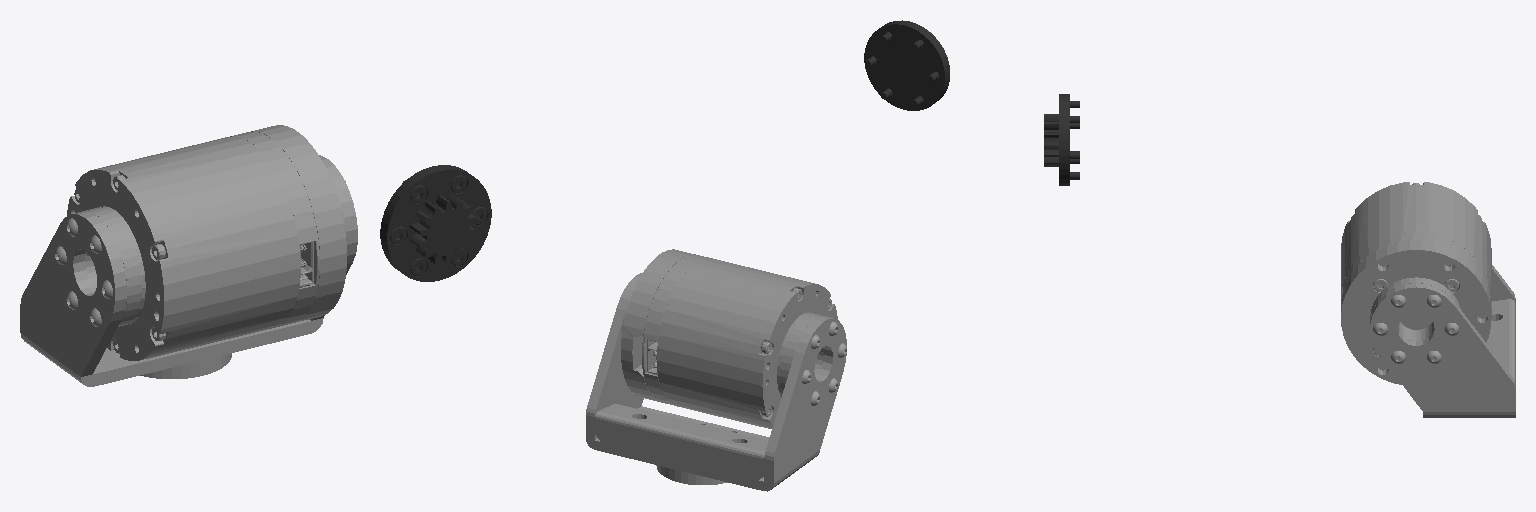
robot.urdf — urdfTRLC:
<?xml version="1.0" encoding="utf-8"?>
<!-- This URDF was automatically created by SolidWorks to URDF Exporter! Originally created by [author] ([email redacted]) 
     Commit Version: 1.6.0-4-g7f85cfe  Build Version: 1.6.7995.38578
     For more information, please see http://wiki.ros.org/sw_urdf_exporter -->
<robot
  name="urdfTRLC">
  <link
    name="base_link">
    <inertial>
      <origin
        xyz="0.00035693 -2.0341E-05 0.028839"
        rpy="0 0 0" />
      <mass
        value="0.15691" />
      <inertia
        ixx="6.8514E-05"
        ixy="1.8448E-08"
        ixz="5.5976E-08"
        iyy="9.3881E-05"
        iyz="-2.605E-09"
        izz="9.3695E-05" />
    </inertial>
    <visual>
      <origin
        xyz="0 0 0"
        rpy="0 0 0" />
      <geometry>
        <mesh
          filename="package://urdfTRLC/meshes/base_link.STL" />
      </geometry>
      <material
        name="">
        <color
          rgba="0.62745 0.62745 0.62745 1" />
      </material>
    </visual>
    <collision>
      <origin
        xyz="0 0 0"
        rpy="0 0 0" />
      <geometry>
        <mesh
          filename="package://urdfTRLC/meshes/base_link.STL" />
      </geometry>
    </collision>
  </link>
  <link
    name="link1">
    <inertial>
      <origin
        xyz="-0.0018187 -0.015939 0.03281"
        rpy="0 0 0" />
      <mass
        value="0.18378" />
      <inertia
        ixx="6.9188E-05"
        ixy="-4.9168E-08"
        ixz="-1.4916E-08"
        iyy="8.4239E-05"
        iyz="2.7997E-06"
        izz="8.2324E-05" />
    </inertial>
    <visual>
      <origin
        xyz="0 0 0"
        rpy="0 0 0" />
      <geometry>
        <mesh
          filename="package://urdfTRLC/meshes/link1.STL" />
      </geometry>
      <material
        name="">
        <color
          rgba="0.62745 0.62745 0.62745 1" />
      </material>
    </visual>
    <collision>
      <origin
        xyz="0 0 0"
        rpy="0 0 0" />
      <geometry>
        <mesh
          filename="package://urdfTRLC/meshes/link1.STL" />
      </geometry>
    </collision>
  </link>
  <joint
    name="joint1"
    type="revolute">
    <origin
      xyz="0.00030433 -5.982E-05 0.0615"
      rpy="0 0 0" />
    <parent
      link="base_link" />
    <child
      link="link1" />
    <axis
      xyz="0 0 -1" />
    <limit
      lower="-3.14"
      upper="3.14"
      effort="100"
      velocity="1" />
  </joint>
  <link
    name="link2">
    <inertial>
      <origin
        xyz="-0.00072847 0.12948 -0.0013629"
        rpy="0 0 0" />
      <mass
        value="0.52199" />
      <inertia
        ixx="0.0017112"
        ixy="-3.6153E-05"
        ixz="2.9847E-08"
        iyy="0.00020312"
        iyz="-7.6814E-10"
        izz="0.0017633" />
    </inertial>
    <visual>
      <origin
        xyz="0 0 0"
        rpy="0 0 0" />
      <geometry>
        <mesh
          filename="package://urdfTRLC/meshes/link2.STL" />
      </geometry>
      <material
        name="">
        <color
          rgba="0.45098 0.45098 0.45098 1" />
      </material>
    </visual>
    <collision>
      <origin
        xyz="0 0 0"
        rpy="0 0 0" />
      <geometry>
        <mesh
          filename="package://urdfTRLC/meshes/link2.STL" />
      </geometry>
    </collision>
  </link>
  <joint
    name="joint2"
    type="revolute">
    <origin
      xyz="2.5E-05 -0.01996 0.0385"
      rpy="0 1.5708 0" />
    <parent
      link="link1" />
    <child
      link="link2" />
    <axis
      xyz="0 0 1" />
    <limit
      lower="-3.14"
      upper="3.14"
      effort="100"
      velocity="1" />
  </joint>
  <link
    name="link3">
    <inertial>
      <origin
        xyz="-0.0850583506723794 0.166894775258068 -0.00116994142610369"
        rpy="0 0 0" />
      <mass
        value="0.29810581392227" />
      <inertia
        ixx="0.000342552318746016"
        ixy="0.000245958313961062"
        ixz="-6.46271366436622E-08"
        iyy="0.000326863555207729"
        iyz="5.46612250403886E-09"
        izz="0.000618245496093963" />
    </inertial>
    <visual>
      <origin
        xyz="0 0 0"
        rpy="0 0 0" />
      <geometry>
        <mesh
          filename="package://urdfTRLC/meshes/link3.STL" />
      </geometry>
      <material
        name="">
        <color
          rgba="0.627450980392157 0.627450980392157 0.627450980392157 1" />
      </material>
    </visual>
    <collision>
      <origin
        xyz="0 0 0"
        rpy="0 0 0" />
      <geometry>
        <mesh
          filename="package://urdfTRLC/meshes/link3.STL" />
      </geometry>
    </collision>
  </link>
  <joint
    name="joint3"
    type="revolute">
    <origin
      xyz="0 0.264 0"
      rpy="0 0 2.3562" />
    <parent
      link="link2" />
    <child
      link="link3" />
    <axis
      xyz="0 0 1" />
    <limit
      lower="-3.14"
      upper="3.14"
      effort="100"
      velocity="1" />
  </joint>
  <link
    name="link4">
    <inertial>
      <origin
        xyz="-0.0575561983506121 0.0628584060183637 0.00011644901352072"
        rpy="0 0 0" />
      <mass
        value="0.136559236578681" />
      <inertia
        ixx="5.17616079384948E-05"
        ixy="4.14501836594701E-06"
        ixz="-2.71974389425685E-08"
        iyy="7.19822035382371E-05"
        iyz="-4.18322591215055E-08"
        izz="4.83485185403954E-05" />
    </inertial>
    <visual>
      <origin
        xyz="0 0 0"
        rpy="0 0 0" />
      <geometry>
        <mesh
          filename="package://urdfTRLC/meshes/link4.STL" />
      </geometry>
      <material
        name="">
        <color
          rgba="0.627450980392157 0.627450980392157 0.627450980392157 1" />
      </material>
    </visual>
    <collision>
      <origin
        xyz="0 0 0"
        rpy="0 0 0" />
      <geometry>
        <mesh
          filename="package://urdfTRLC/meshes/link4.STL" />
      </geometry>
    </collision>
  </link>
  <joint
    name="joint4"
    type="revolute">
    <origin
      xyz="-0.13011 0.21496 0"
      rpy="0 0 -0.7854" />
    <parent
      link="link3" />
    <child
      link="link4" />
    <axis
      xyz="0 0 1" />
    <limit
      lower="-3.14"
      upper="3.14"
      effort="100"
      velocity="1" />
  </joint>
  <link
    name="link5">
    <inertial>
      <origin
        xyz="6.02251694338822E-05 0.00433146259484764 0.0436109338536096"
        rpy="0 0 0" />
      <mass
        value="0.136272077910486" />
      <inertia
        ixx="3.80571998229005E-05"
        ixy="4.18321065050544E-08"
        ixz="-2.71960378849877E-08"
        iyy="5.19829979363985E-05"
        iyz="1.05712523783958E-06"
        izz="3.58421705193431E-05" />
    </inertial>
    <visual>
      <origin
        xyz="0 0 0"
        rpy="0 0 0" />
      <geometry>
        <mesh
          filename="package://urdfTRLC/meshes/link5.STL" />
      </geometry>
      <material
        name="">
        <color
          rgba="0.96078431372549 0.96078431372549 0.964705882352941 1" />
      </material>
    </visual>
    <collision>
      <origin
        xyz="0 0 0"
        rpy="0 0 0" />
      <geometry>
        <mesh
          filename="package://urdfTRLC/meshes/link5.STL" />
      </geometry>
    </collision>
  </link>
  <joint
    name="joint5"
    type="revolute">
    <origin
      xyz="-0.062 0.0435 -2.5E-05"
      rpy="1.5708 -1.5708 0" />
    <parent
      link="link4" />
    <child
      link="link5" />
    <axis
      xyz="0 0 -1" />
    <limit
      lower="-3.14"
      upper="3.14"
      effort="100"
      velocity="1" />
  </joint>
  <link
    name="link6">
    <inertial>
      <origin
        xyz="2.76800979526429E-05 0.00742633152124933 0.0838594108097057"
        rpy="0 0 0" />
      <mass
        value="0.295919016276387" />
      <inertia
        ixx="8.44793597241034E-05"
        ixy="4.74443245655807E-08"
        ixz="4.20216174446221E-08"
        iyy="0.000175905409134817"
        iyz="-1.25543193067411E-06"
        izz="0.000200340660418018" />
    </inertial>
    <visual>
      <origin
        xyz="0 0 0"
        rpy="0 0 0" />
      <geometry>
        <mesh
          filename="package://urdfTRLC/meshes/link6.STL" />
      </geometry>
      <material
        name="">
        <color
          rgba="0.247058823529412 0.247058823529412 0.247058823529412 1" />
      </material>
    </visual>
    <collision>
      <origin
        xyz="0 0 0"
        rpy="0 0 0" />
      <geometry>
        <mesh
          filename="package://urdfTRLC/meshes/link6.STL" />
      </geometry>
    </collision>
  </link>
  <joint
    name="joint6"
    type="revolute">
    <origin
      xyz="0 0 0.0435"
      rpy="-1.5708 0 0" />
    <parent
      link="link5" />
    <child
      link="link6" />
    <axis
      xyz="0 0 -1" />
    <limit
      lower="-3.14"
      upper="3.14"
      effort="100"
      velocity="1" />
  </joint>
  <link
    name="link7">
    <inertial>
      <origin
        xyz="1.41513463601717E-16 1.0547118733939E-15 0.0257854549357648"
        rpy="0 0 0" />
      <mass
        value="0.00514900762678686" />
      <inertia
        ixx="3.00529940041033E-07"
        ixy="-1.56787200650138E-15"
        ixz="-2.84344565143764E-21"
        iyy="3.00529940041033E-07"
        iyz="-1.35592032122936E-21"
        izz="5.37858964007326E-07" />
    </inertial>
    <visual>
      <origin
        xyz="0 0 0"
        rpy="0 0 0" />
      <geometry>
        <mesh
          filename="package://urdfTRLC/meshes/link7.STL" />
      </geometry>
      <material
        name="">
        <color
          rgba="0.247058823529412 0.247058823529412 0.247058823529412 1" />
      </material>
    </visual>
    <collision>
      <origin
        xyz="0 0 0"
        rpy="0 0 0" />
      <geometry>
        <mesh
          filename="package://urdfTRLC/meshes/link7.STL" />
      </geometry>
    </collision>
  </link>
  <joint
    name="joint7"
    type="revolute">
    <origin
      xyz="0 0 0.06625"
      rpy="0 0 0" />
    <parent
      link="link6" />
    <child
      link="link7" />
    <axis
      xyz="0 0 -1" />
    <limit
      lower="-3.14"
      upper="3.14"
      effort="100"
      velocity="1" />
  </joint>
</robot>

--- What the picture shows (computed from the rendered views, not written in the file) ---
The picture shows the robot from 3 angles, left to right: view 1: azimuth 30°, elevation 25°; view 2: azimuth 150°, elevation 25°; view 3: azimuth 270°, elevation 25°; orthographic projection.
Robot: urdfTRLC — 8 links, 7 joints (7 revolute); root link base_link; default pose: all joints at 0.
Visible links, largest first — view 1: link1, link7; view 2: link1, link7; view 3: link1, link7.
Boxes of the visible links, x1,y1,x2,y2 form: link1: (20, 125, 357, 386); link7: (380, 165, 491, 281); link1: (586, 249, 846, 491); link7: (864, 20, 949, 110); link1: (1341, 182, 1515, 417); link7: (1044, 94, 1079, 185).
Size in the robot's own frame: 0.0846 by 0.178 by 0.121 metres.
Meshes: 8 distinct files referenced, 2 mesh visuals loaded (2 binary STL); not drawn: 6 (reference not matched to a file when rendering).